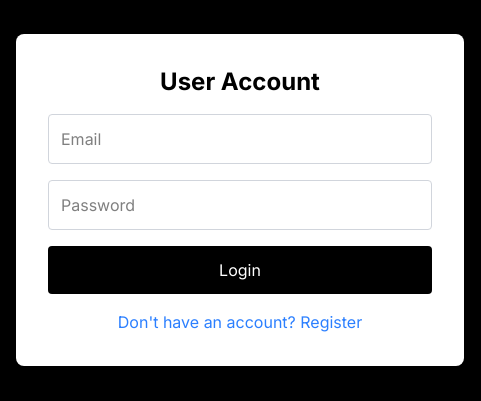
LoginPage › shows error text when the backend rejects login
Type "wrong@ex.com" into the field with placeholder "Email" at (240, 139), box [48, 114, 432, 164]
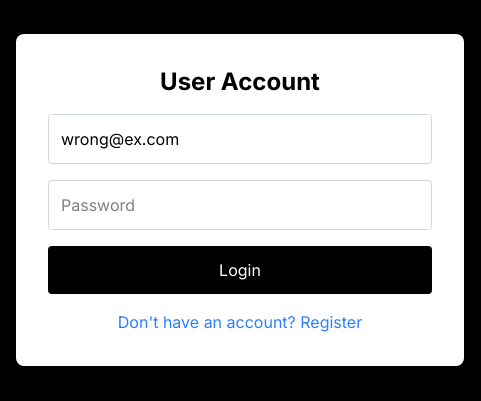
Type "bad" into the password field with placeholder "Password" at (240, 205), box [48, 180, 432, 230]
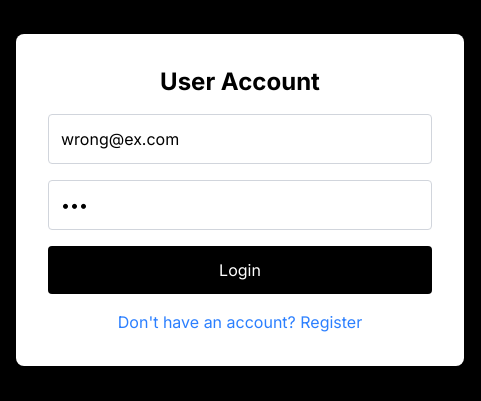
Submit the form "Login", box [48, 114, 432, 294]
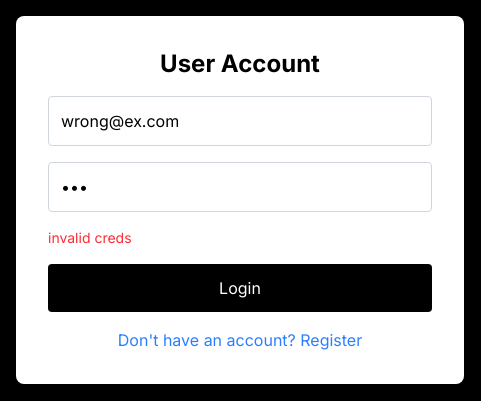
Result: the text "invalid creds" is shown at [48, 229, 132, 246]
